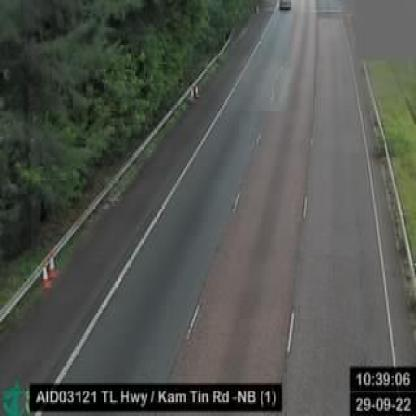Car: (274, 0, 294, 19)
